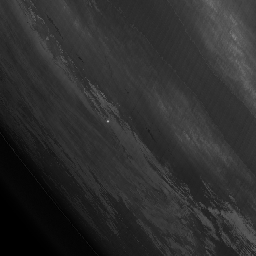Target: (105, 119, 110, 124)
